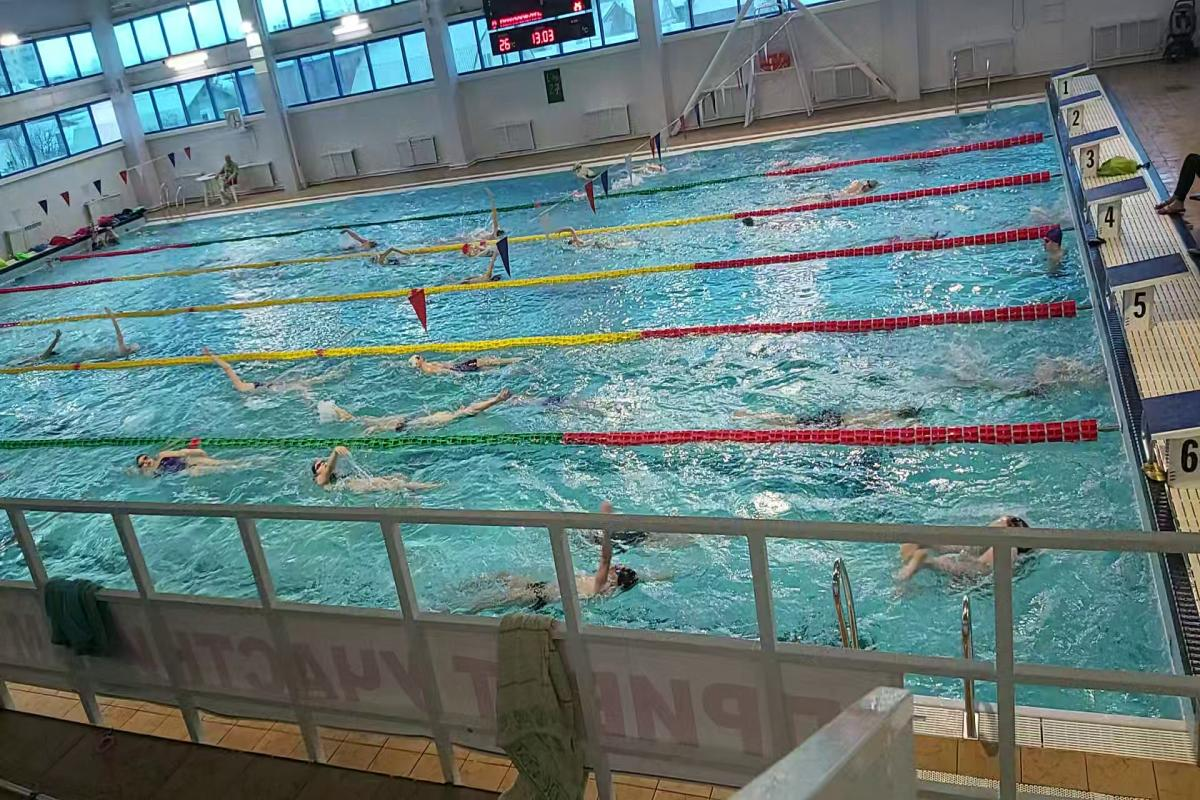swimmer: (458, 522, 662, 607), (883, 514, 1023, 607), (294, 446, 433, 502), (331, 399, 515, 430), (379, 349, 539, 378), (206, 354, 322, 394), (125, 447, 248, 482), (559, 223, 642, 253), (100, 314, 154, 358), (796, 176, 882, 197), (1039, 221, 1072, 267), (326, 223, 384, 249), (459, 259, 509, 280), (470, 216, 510, 237), (364, 250, 410, 268), (458, 238, 496, 255)
